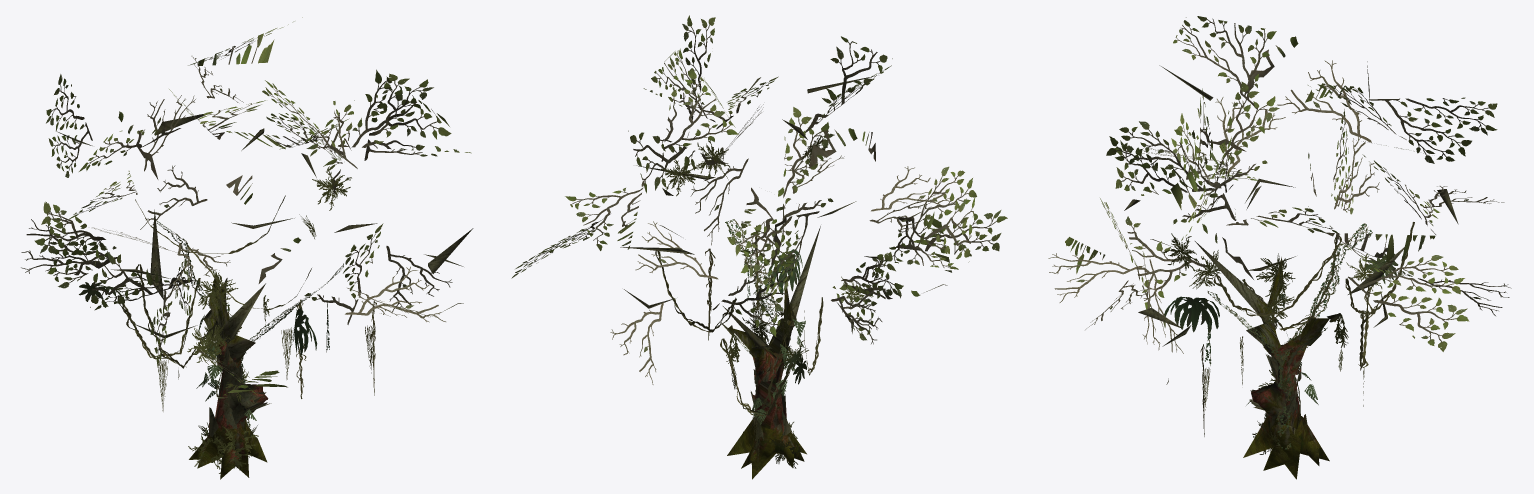
File: realjungletreefar.glb
3 views of the same model, side by side, from view 1: azimuth 30°, elevation 25°; view 2: azimuth 150°, elevation 25°; view 3: azimuth 270°, elevation 25° (orthographic). The views are drawn at different scales.
Visible parts, largest first — view 1: TreeGen_ClusterB_0, TreeGen_VinesB_0, TreeGen_BarkB_0, TreeGen_ClusterB2_0, TreeGen_CortexB_0; view 2: TreeGen_ClusterB_0, TreeGen_VinesB_0, TreeGen_BarkB_0, TreeGen_ClusterB2_0, TreeGen_CortexB_0; view 3: TreeGen_ClusterB_0, TreeGen_VinesB_0, TreeGen_BarkB_0, TreeGen_ClusterB2_0, TreeGen_CortexB_0.
Boxes of the visible parts, x1,y1,x2,y2 form: TreeGen_ClusterB_0: (34,17,471,398); TreeGen_VinesB_0: (79,166,376,473); TreeGen_BarkB_0: (56,114,473,479); TreeGen_ClusterB2_0: (21,56,452,322); TreeGen_CortexB_0: (209,278,271,436); TreeGen_ClusterB_0: (511,15,1007,340); TreeGen_VinesB_0: (655,131,873,468); TreeGen_BarkB_0: (620,75,947,479); TreeGen_ClusterB2_0: (610,104,959,384); TreeGen_CortexB_0: (720,322,791,440); TreeGen_ClusterB_0: (1065,16,1497,351); TreeGen_VinesB_0: (1163,209,1414,454); TreeGen_BarkB_0: (1124,61,1458,479); TreeGen_ClusterB2_0: (1048,60,1511,353); TreeGen_CortexB_0: (1249,313,1340,423).
Bounding box in the file's own units: 12.58 × 13 × 13.07.
Materials: 5 (5 with a texture image).
